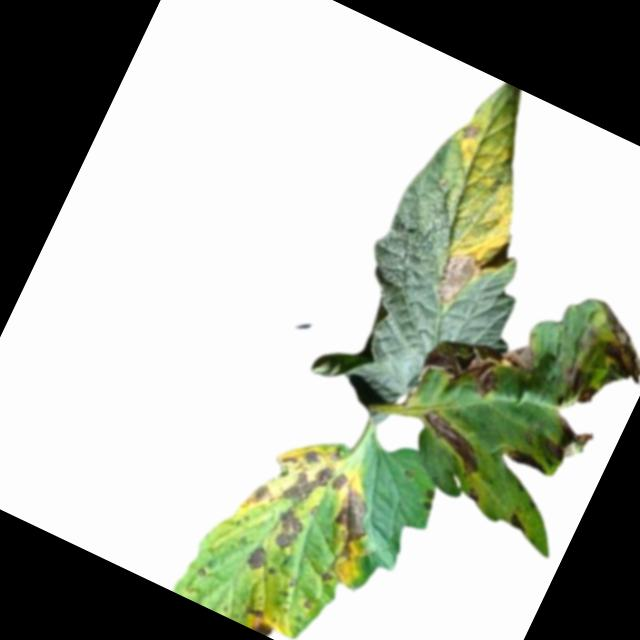Early_blight: (231, 421, 358, 562), (425, 309, 543, 415), (409, 405, 496, 477), (318, 485, 384, 566), (584, 309, 640, 387), (426, 245, 483, 312), (539, 413, 595, 471), (551, 357, 609, 411), (503, 444, 556, 483), (238, 602, 286, 640), (241, 542, 271, 574), (457, 119, 484, 149), (505, 513, 531, 538), (416, 488, 438, 515), (462, 485, 479, 505), (318, 570, 335, 585)
